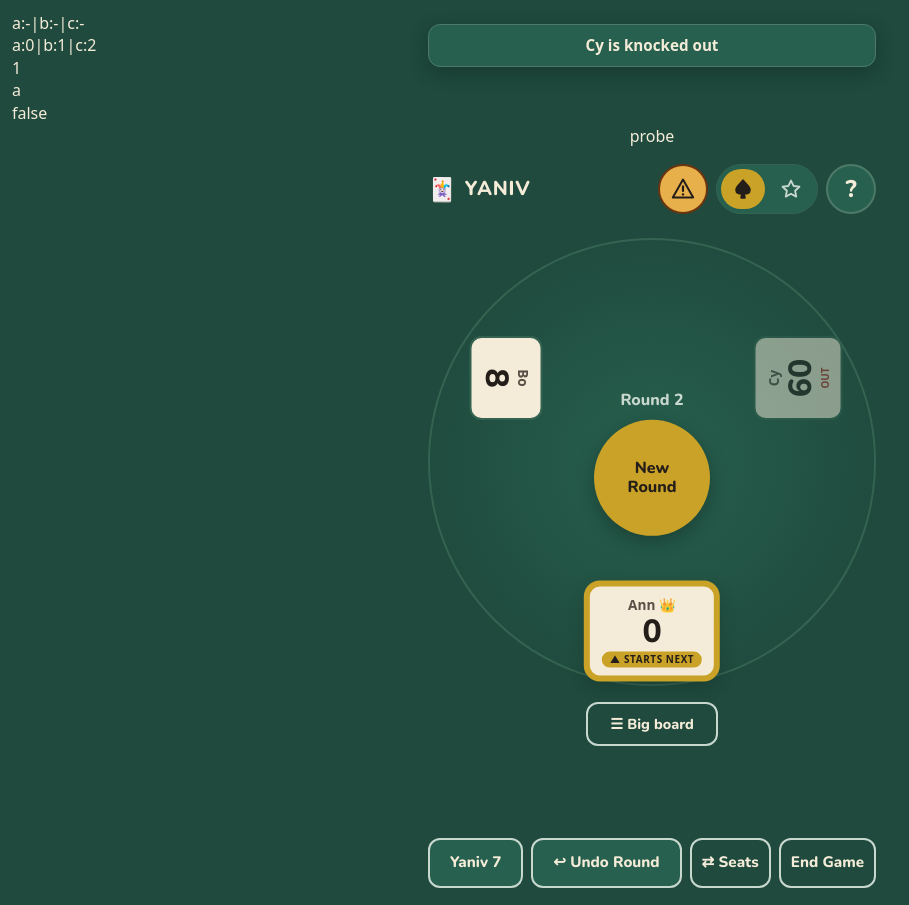
Test: the minus button on the Rearrange Seats row › is NOT offered for a player who is already knocked out
Click the button with aria-label "Rearrange seats" at (730,863), box [690,838,771,888]
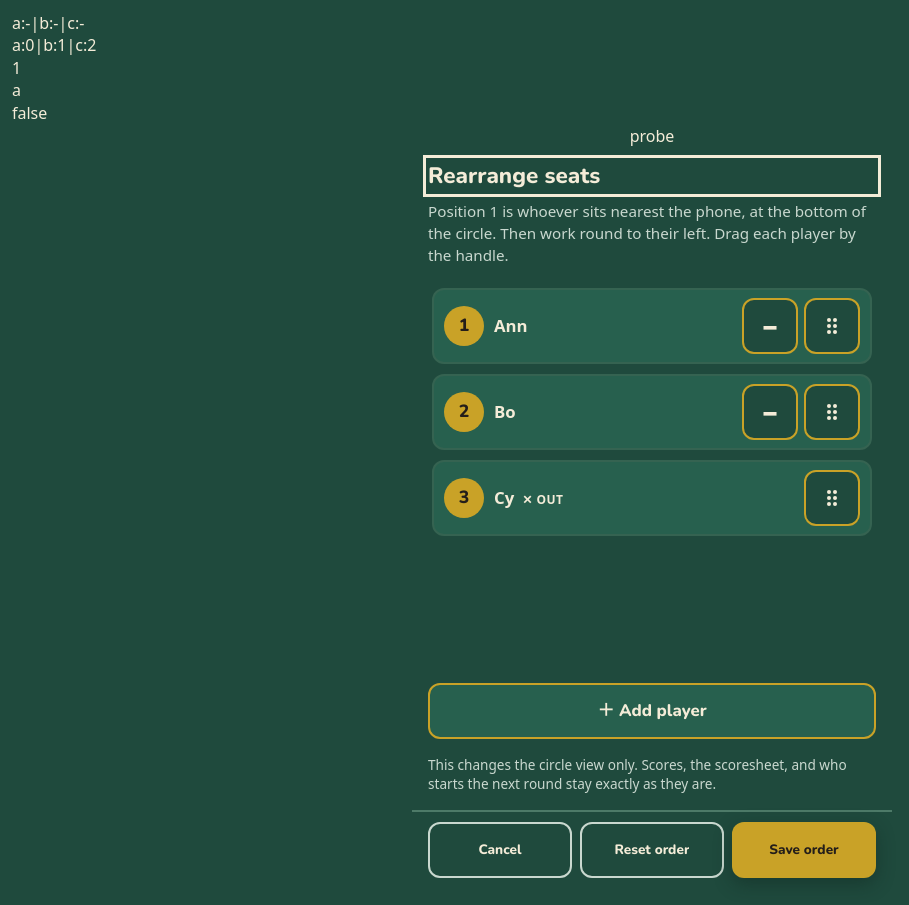
Expected: the button with test id "remove-b" is shown, [742,384,798,440]
